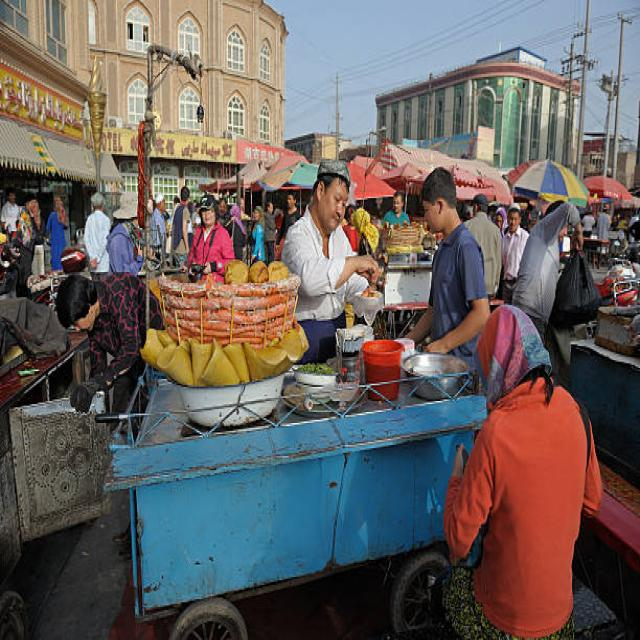Emperan: (82, 161, 640, 640)
